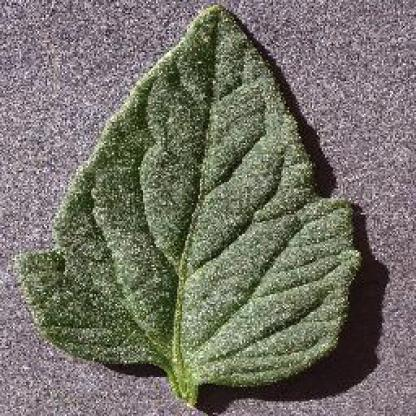bad leaf: (24, 2, 414, 411)
